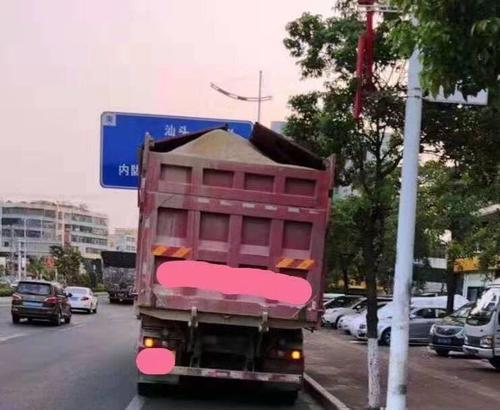chaozhai: (132, 117, 342, 410)
